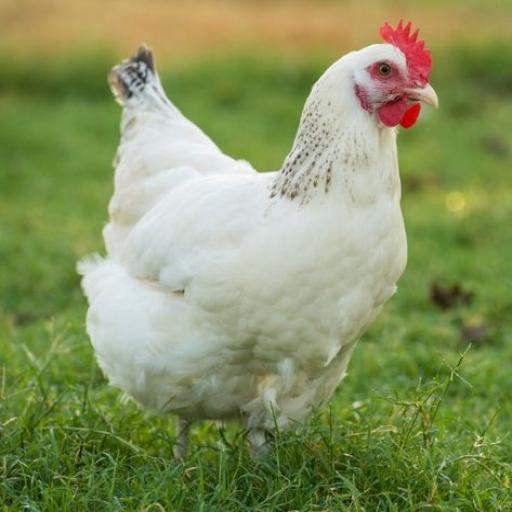healthy: (347, 13, 460, 139)
